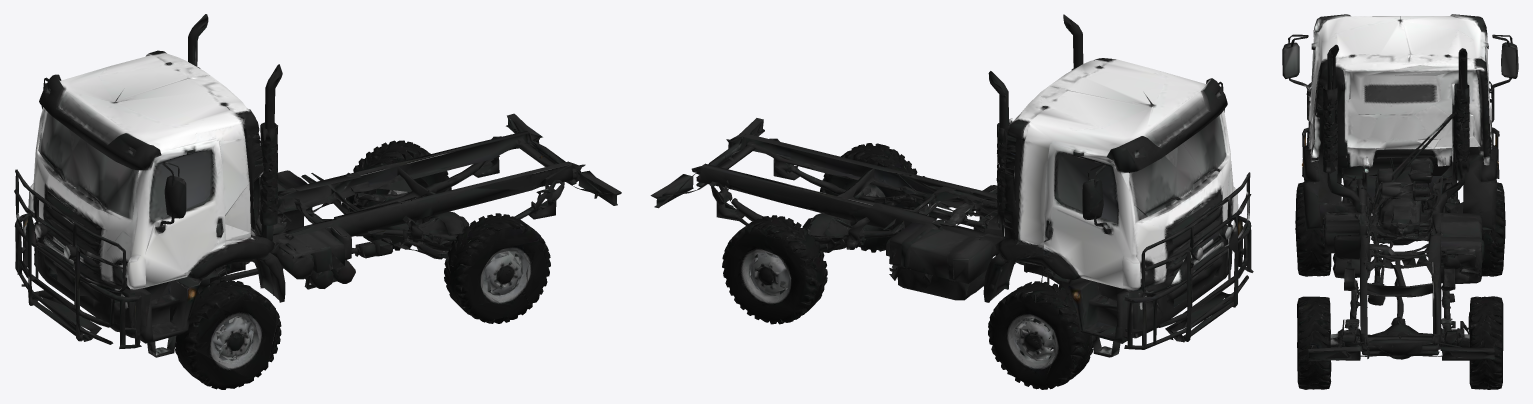
The model's file is caminhao-mobile-CVpyoiTw.glb.
3 views of the same model, side by side, from view 1: azimuth 30°, elevation 25°; view 2: azimuth 150°, elevation 25°; view 3: azimuth 270°, elevation 25° (orthographic). The views are drawn at different scales.
Visible parts, largest first — view 1: output_unwrapped; view 2: output_unwrapped; view 3: output_unwrapped.
Part boxes in pixels (left/top/right/bottom): output_unwrapped: left=14, top=14, right=621, bottom=389; output_unwrapped: left=650, top=14, right=1253, bottom=389; output_unwrapped: left=1282, top=14, right=1518, bottom=389.
Bounding box in the file's own units: 8.2 × 4.47 × 3.76.
Materials: 1 (1 with a texture image).
